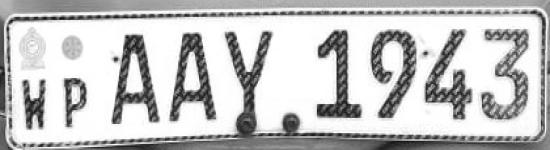1: (302, 22, 367, 129)
3: (480, 23, 535, 129)
4: (423, 23, 477, 127)
9: (370, 20, 421, 126)
A: (162, 29, 220, 134), (105, 30, 163, 134)
P: (60, 73, 94, 130)
W: (18, 72, 53, 137)
Y: (221, 26, 276, 131)
